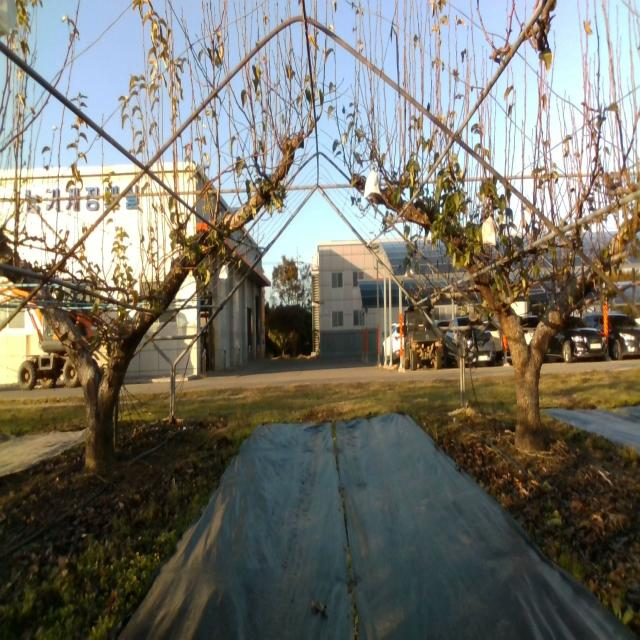pearbags: (482, 210, 498, 250), (363, 168, 382, 200)
